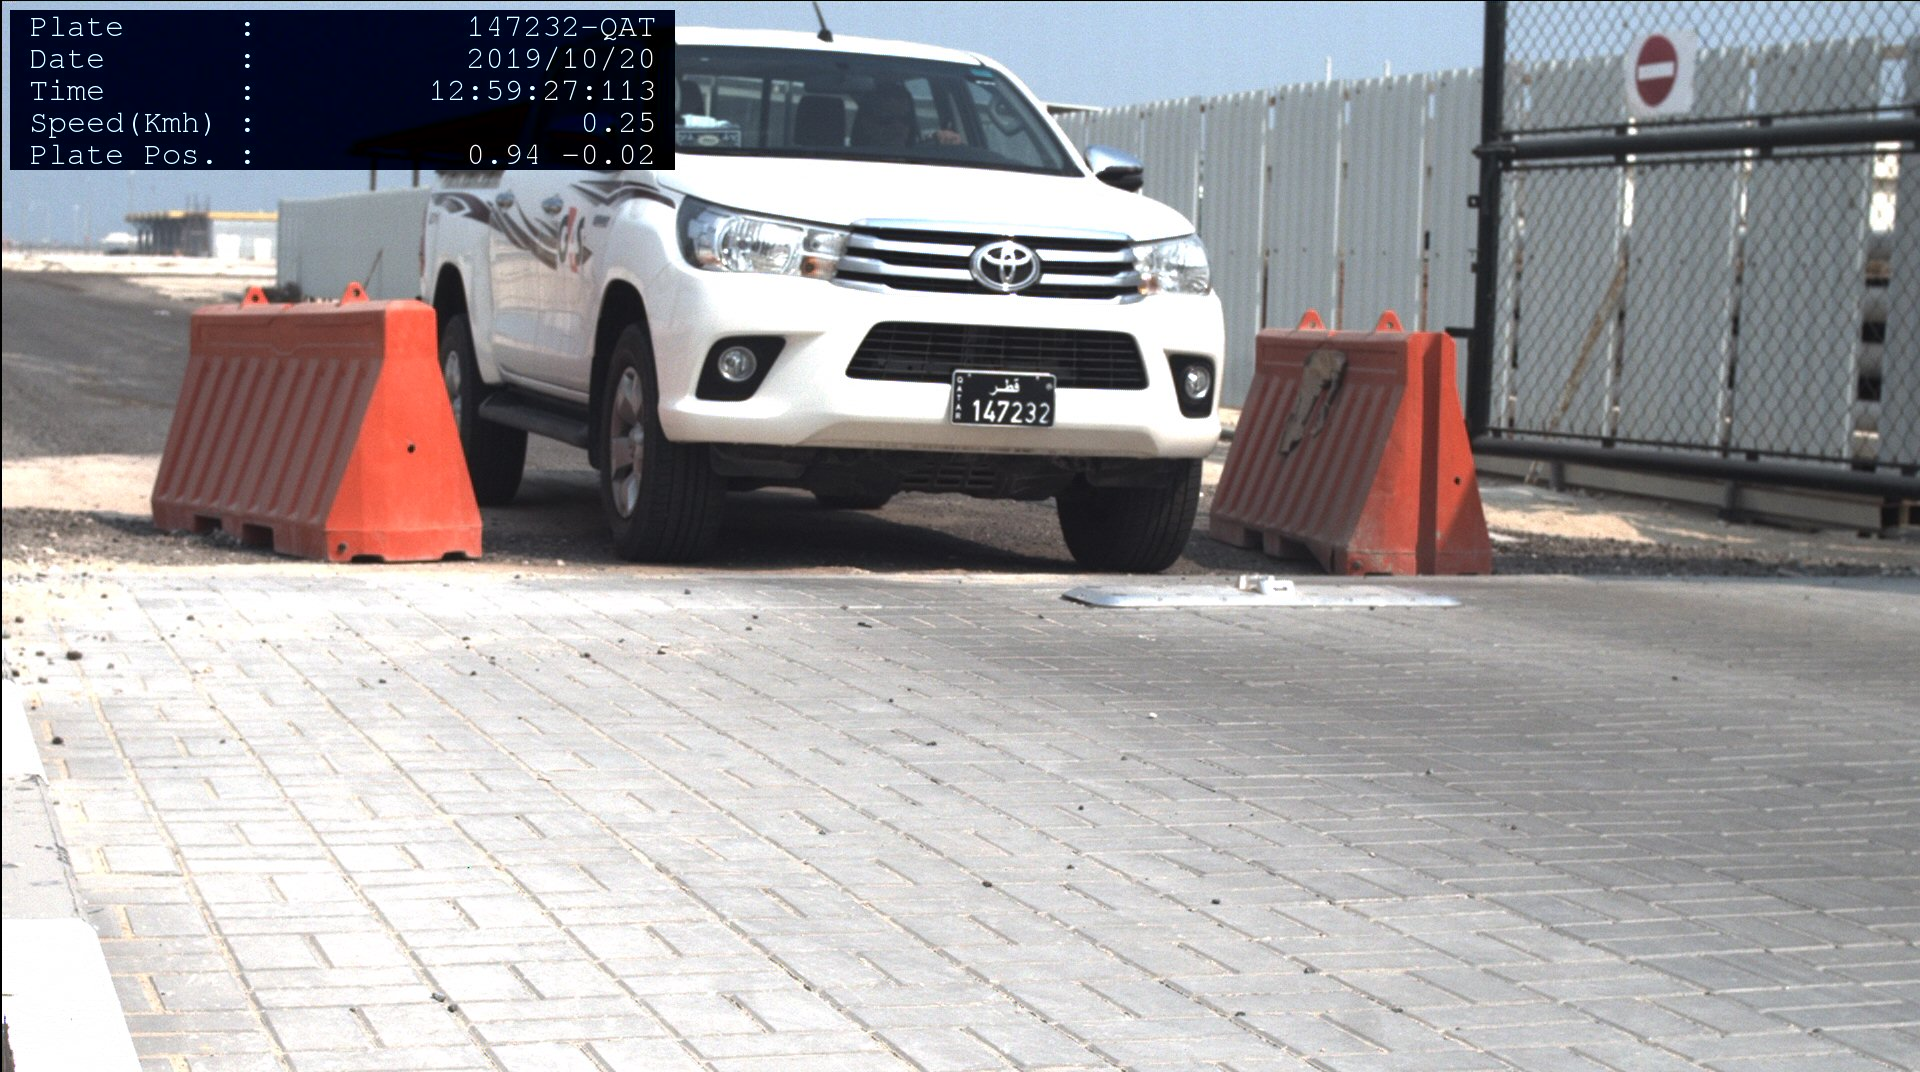License Plate: (956, 371, 1058, 430)
